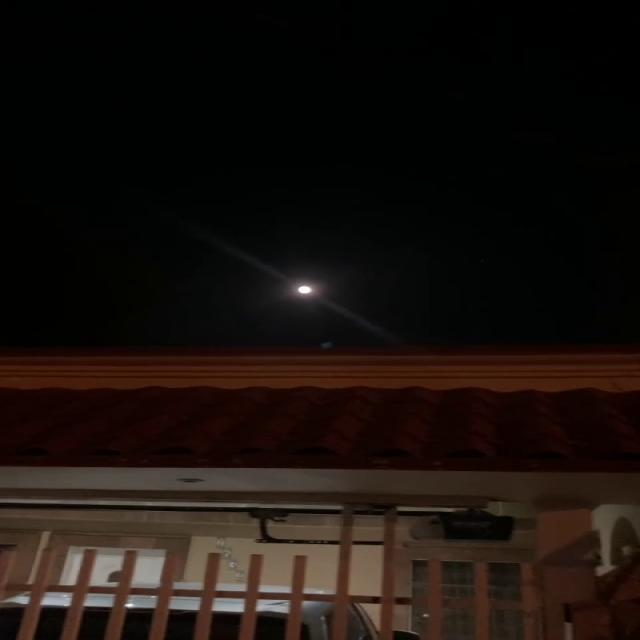moon: (290, 273, 325, 300)
